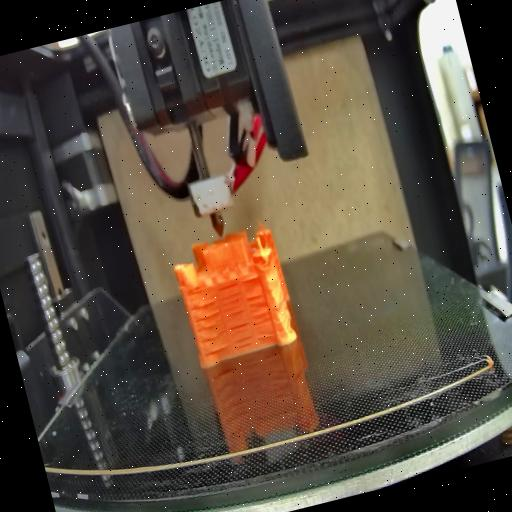cracks: (188, 295, 233, 358), (220, 279, 256, 352), (245, 290, 277, 342), (240, 272, 260, 285)
